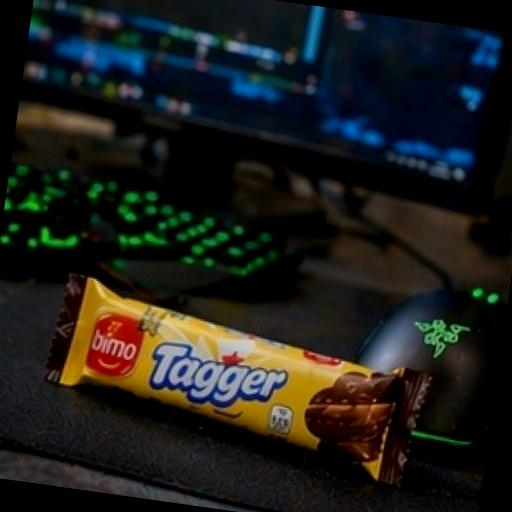tagger: (21, 192, 458, 512)
